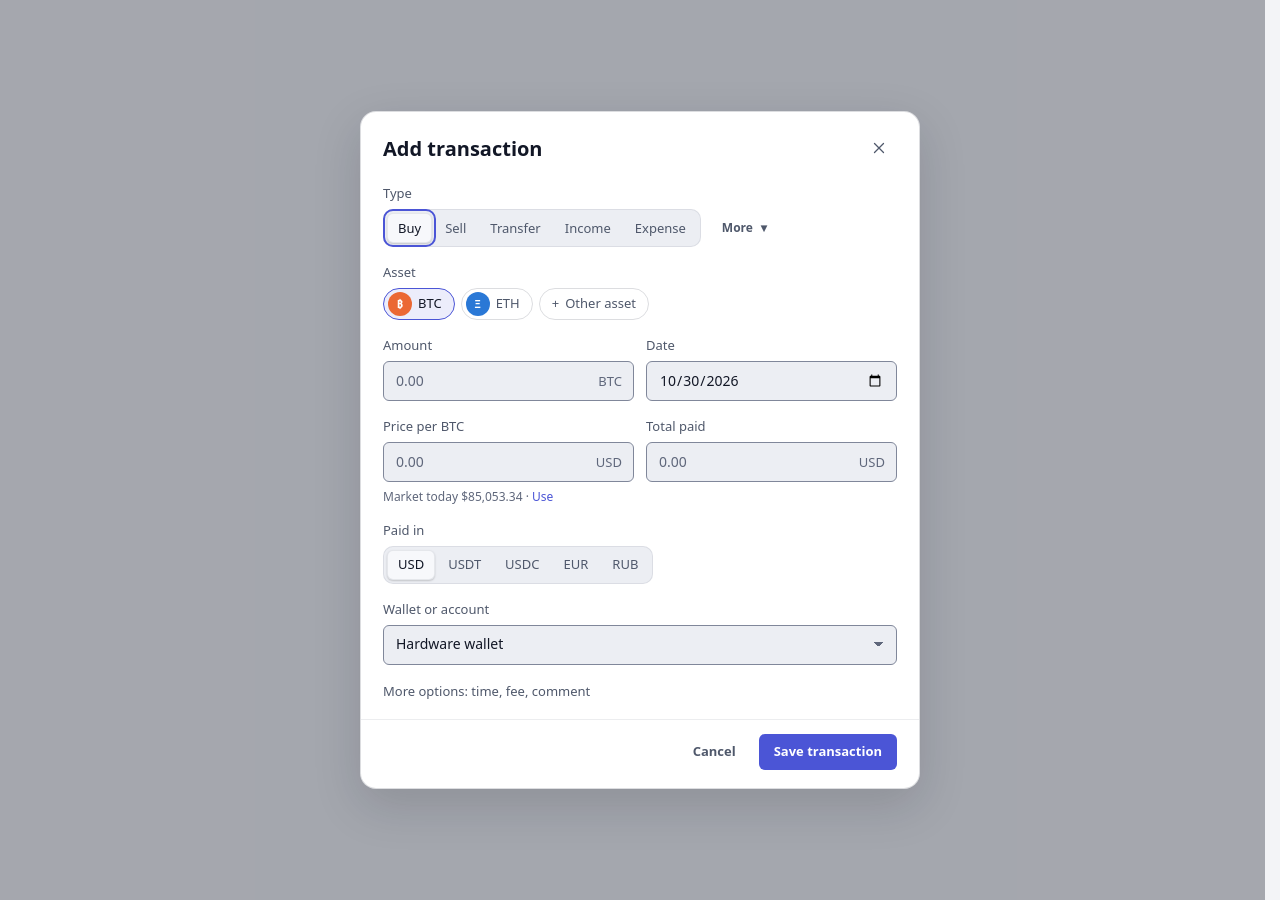
Test: CUR-PAID-RUB the Add transaction window › shows a field problem when the field loses focus and clears it once fixed
Expected: the element "asset" is shown, top-left (383, 288), bottom-right (649, 320)
Type "abc" into the field labelled "Amount" at coordinates (508, 381), box top-left (383, 361), bottom-right (634, 401)
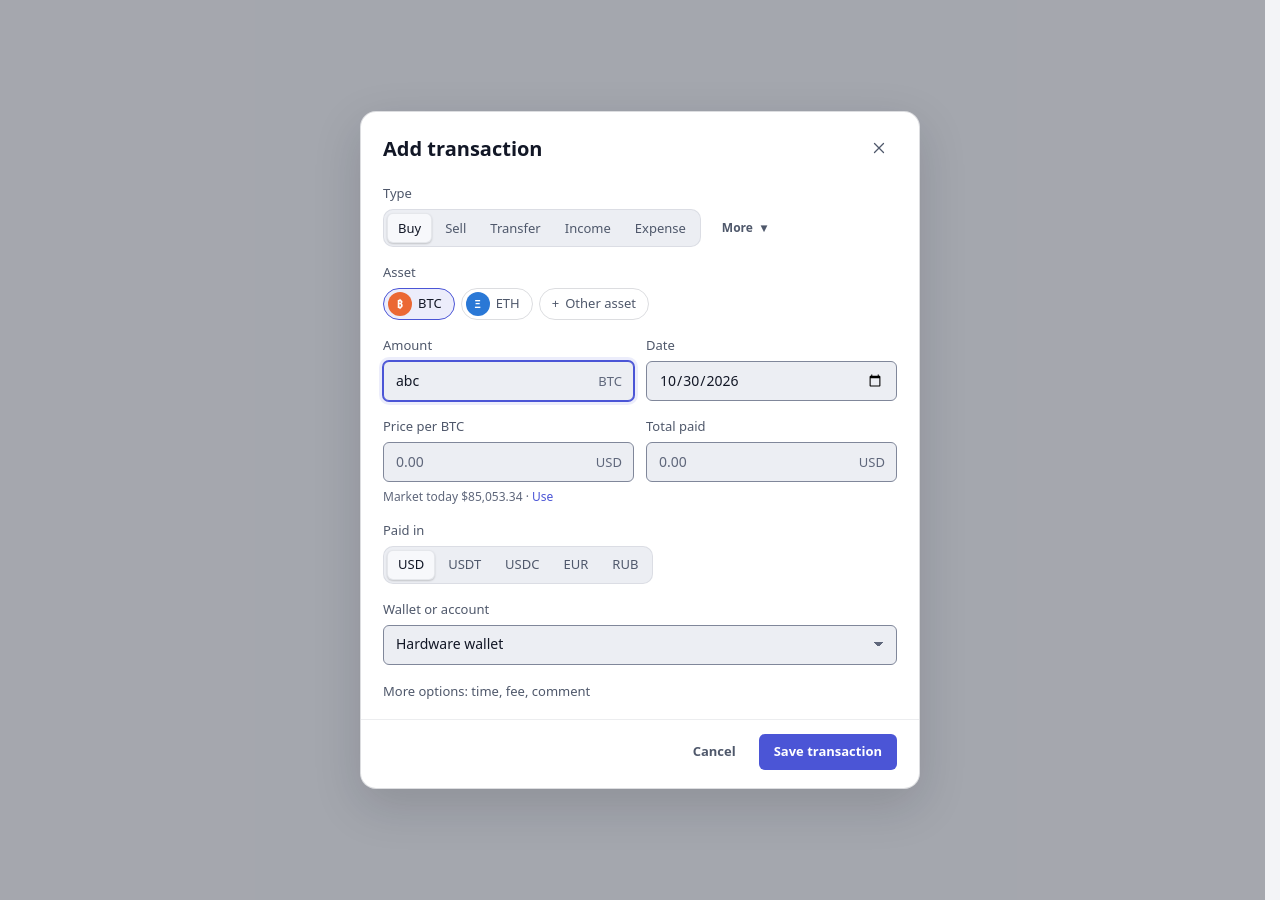
Expected: the text "Enter an amount greater than 0" is not shown
Press Tab
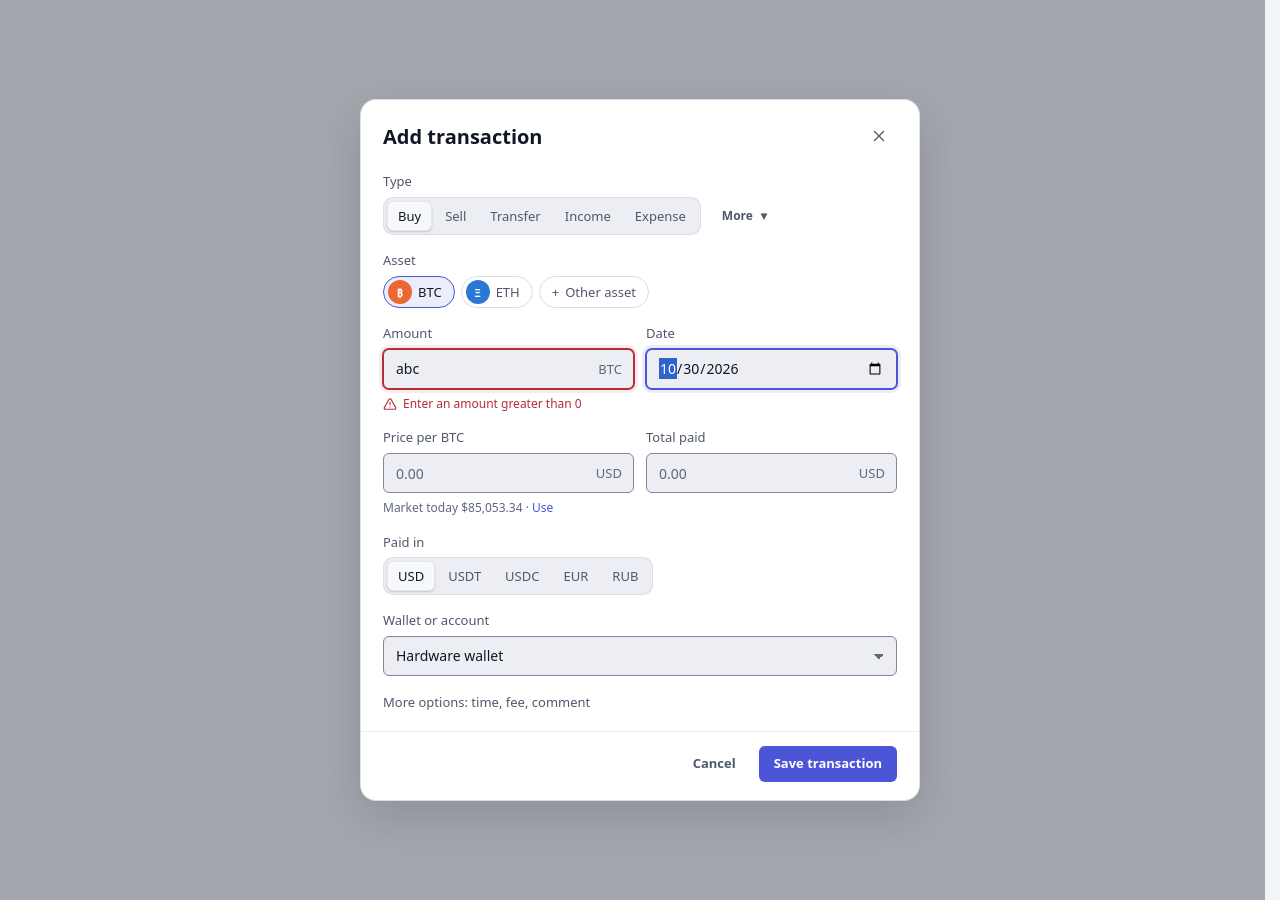
Result: the text "Enter an amount greater than 0" is shown at top-left (403, 395), bottom-right (582, 412)
Replace the text in the field labelled "Amount" with "2" at coordinates (508, 369), box top-left (383, 349), bottom-right (634, 389)
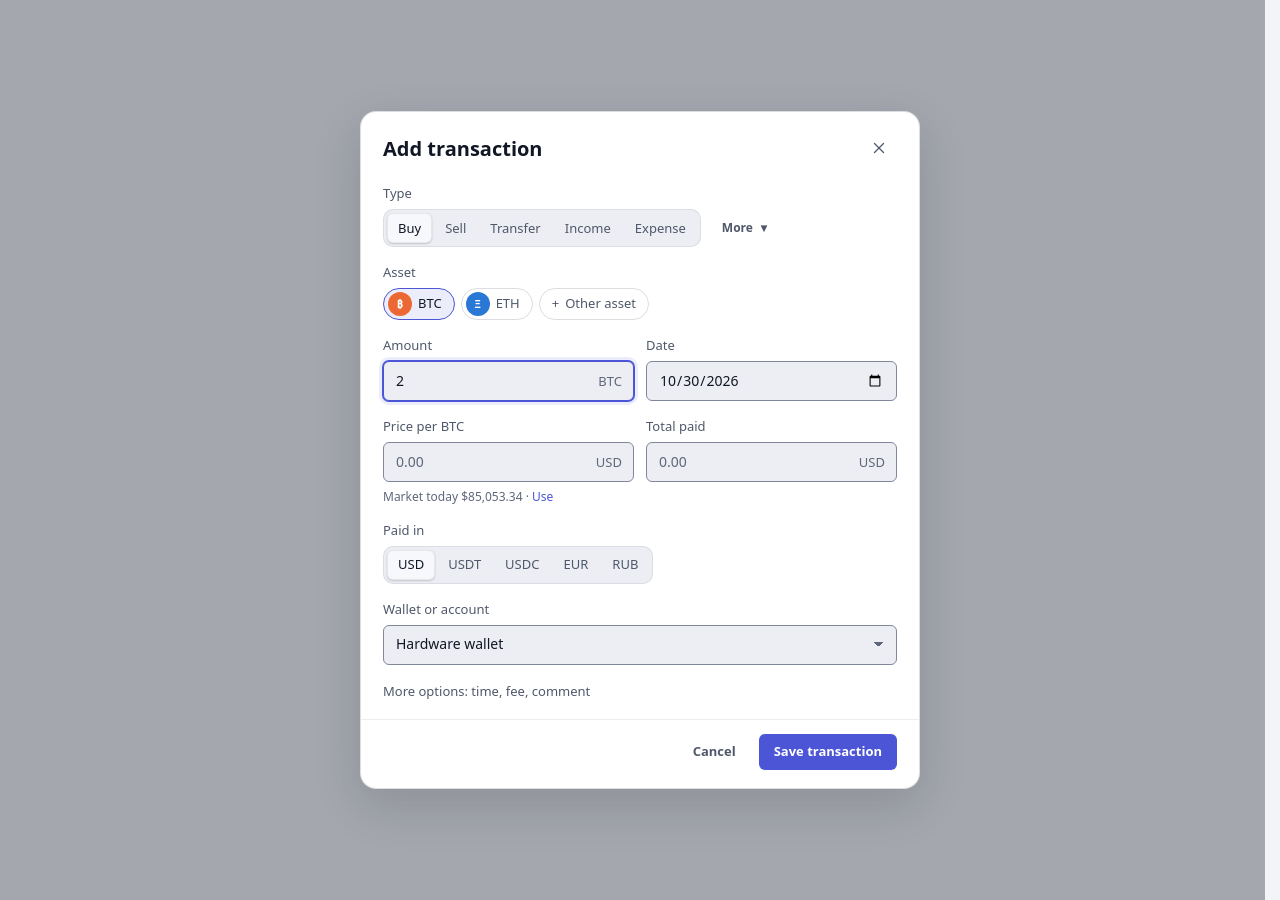
Result: the text "Enter an amount greater than 0" is gone
